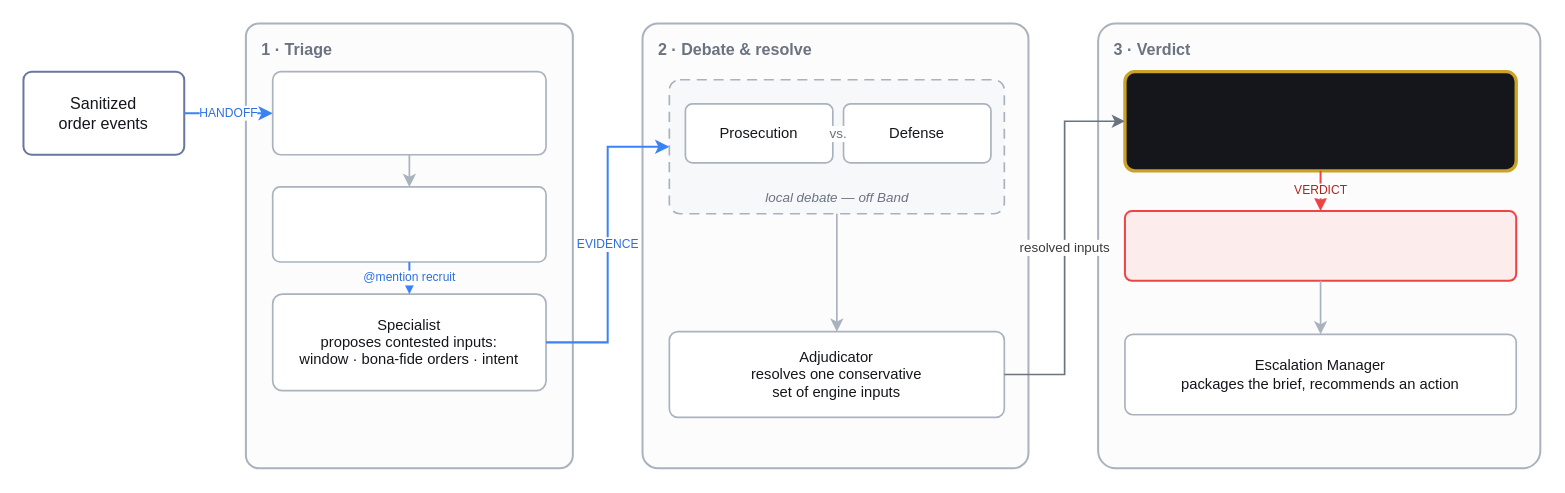
Image size: 1565x493. Some labels were removed from this diagram. The shapes that lost their labels are listed below. From the top down, each one's centre as x and y in pixels, then its label:
(x=408, y=112): Anomaly Detector computes features; flags suspicious flow
(x=1320, y=120): RULE ENGINE runs the active rules — same inputs, same answer
(x=408, y=223): Investigator recruits the right specialist
(x=1320, y=245): FLAG · rule_id + cited metric → case FLAGGED
